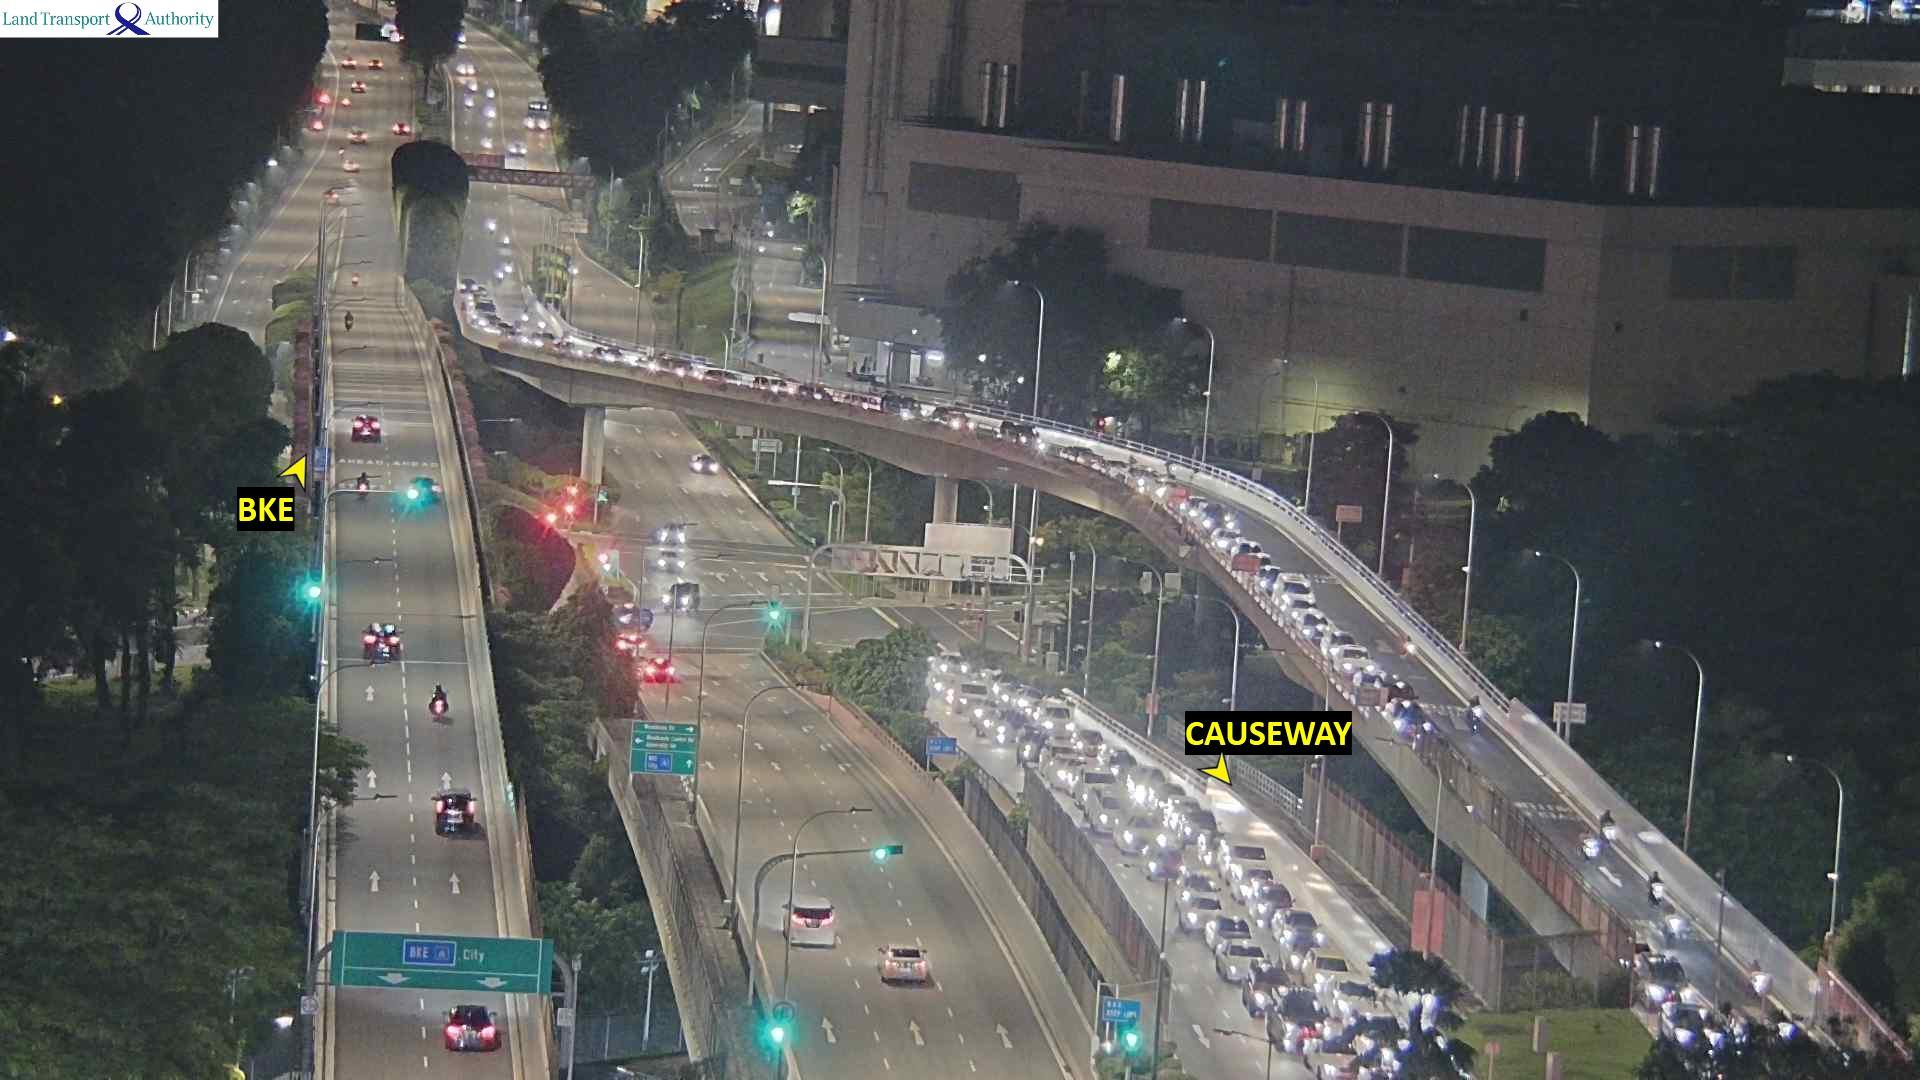vehicle-causeway-johor: (1266, 1002, 1329, 1055), (1305, 1040, 1364, 1080), (1120, 812, 1166, 852), (1224, 839, 1267, 880), (1386, 698, 1427, 738), (1331, 972, 1373, 1011), (533, 328, 585, 359), (1220, 942, 1265, 977), (1247, 968, 1287, 1007), (1308, 948, 1345, 990), (1274, 572, 1316, 608), (1089, 790, 1127, 828), (1275, 910, 1321, 942), (1254, 891, 1294, 928), (1205, 915, 1250, 947), (1052, 754, 1091, 789), (1183, 895, 1221, 926), (1079, 773, 1117, 803), (1147, 847, 1183, 877), (994, 715, 1029, 745), (953, 680, 985, 712), (1178, 869, 1217, 893), (1302, 611, 1338, 636), (1200, 504, 1233, 531), (1337, 646, 1369, 674), (653, 355, 694, 375), (1043, 704, 1071, 733), (884, 397, 924, 415), (844, 392, 881, 411), (1005, 425, 1040, 443), (936, 409, 972, 427), (1060, 444, 1098, 462), (1464, 691, 1480, 731), (1255, 563, 1278, 591), (799, 381, 828, 402), (756, 375, 789, 393), (708, 367, 741, 385), (938, 654, 968, 674), (1597, 807, 1613, 844), (599, 343, 628, 363), (1229, 541, 1261, 558), (1646, 870, 1662, 903), (1213, 530, 1242, 547), (1109, 459, 1138, 475), (481, 314, 508, 331), (459, 278, 477, 293), (487, 219, 496, 233), (504, 233, 512, 248), (504, 262, 513, 274), (496, 268, 504, 281)
vehicle-causeway-singapore: (782, 897, 836, 949), (878, 943, 927, 986), (434, 785, 475, 836), (363, 621, 400, 661), (348, 413, 381, 443), (406, 477, 440, 506), (645, 657, 676, 683), (430, 682, 450, 721), (356, 472, 368, 492), (344, 310, 353, 332), (351, 273, 359, 287)
